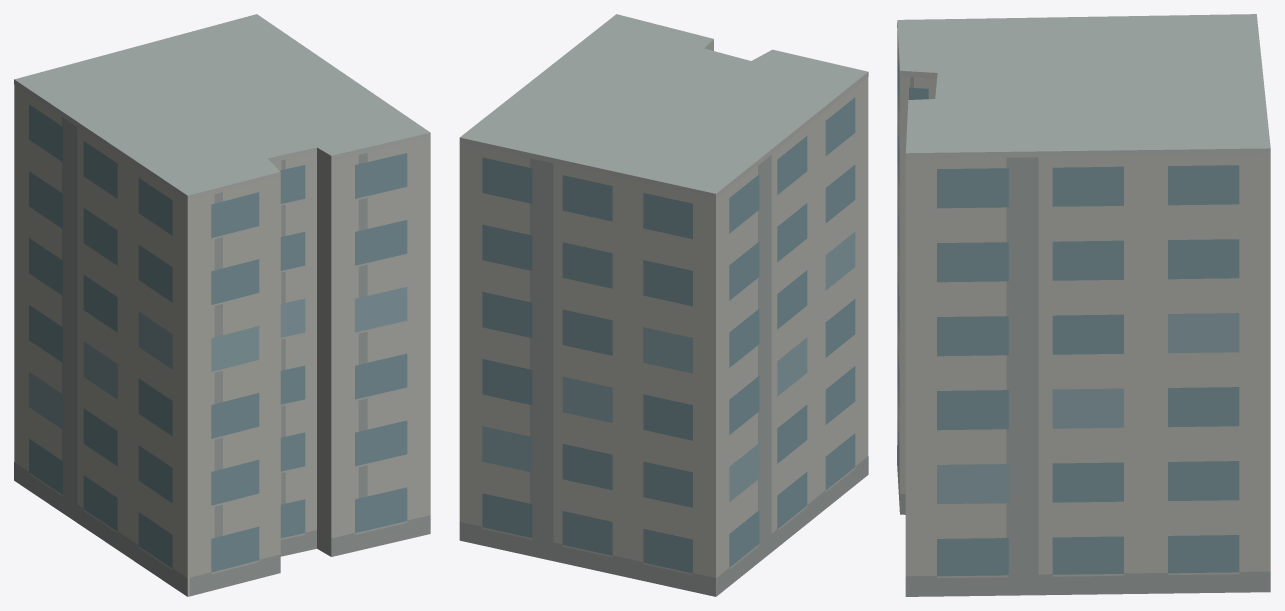
Rendered from survey-upis-32746548.glb.
The picture shows the model from 3 angles, left to right: view 1: azimuth 30°, elevation 25°; view 2: azimuth 150°, elevation 25°; view 3: azimuth 270°, elevation 25°; orthographic projection. The views are drawn at different scales.
Parts seen in each view (by area): view 1: survey-upis-32746548.tmp; view 2: survey-upis-32746548.tmp; view 3: survey-upis-32746548.tmp.
Part boxes in pixels (<box>): survey-upis-32746548.tmp: <box>14,14,430,596</box>; survey-upis-32746548.tmp: <box>459,14,868,596</box>; survey-upis-32746548.tmp: <box>897,14,1270,596</box>.
Bounding box in the file's own units: 12.32 × 18.3 × 13.97.
